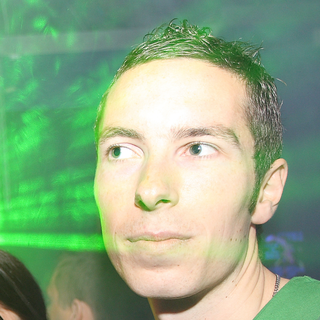eye: (98, 140, 148, 164), (177, 135, 224, 160)
